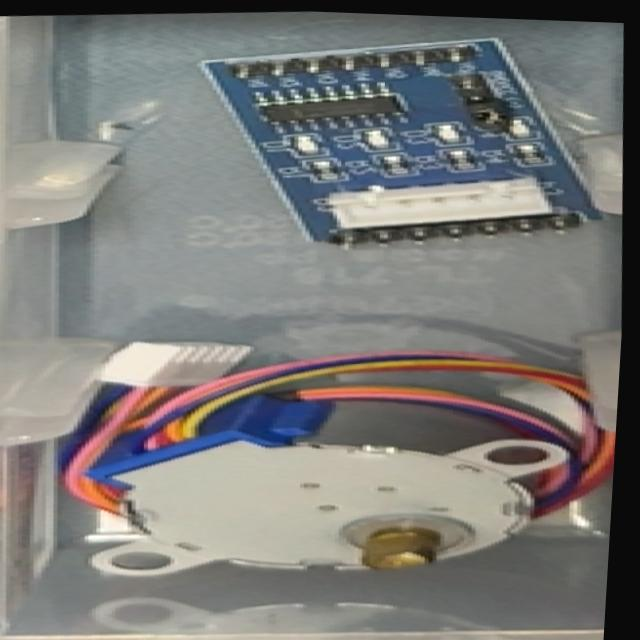Stepper Motor: (70, 405, 595, 604)
Stepper Motor Board: (186, 22, 618, 269)
